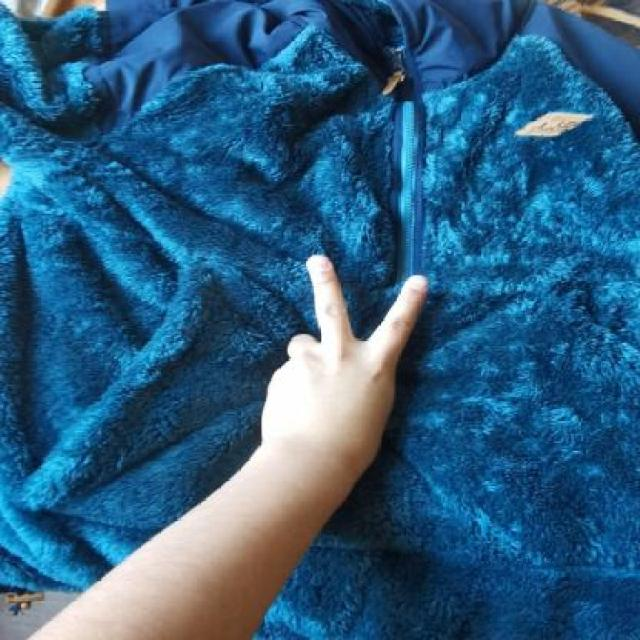V: (252, 250, 434, 487)
